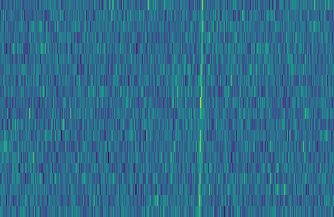signal: (194, 0, 207, 217)
